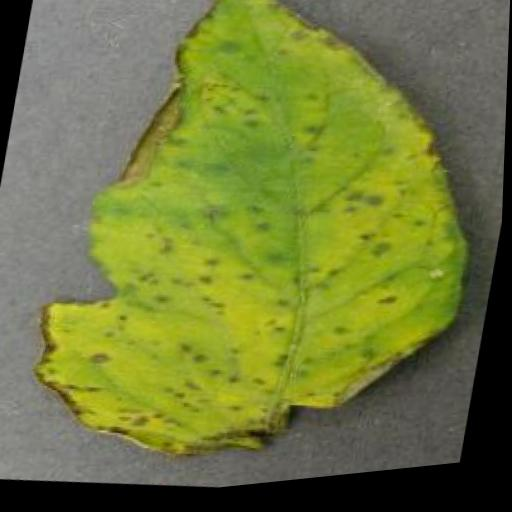Bacterial Spot: (9, 0, 512, 510)
